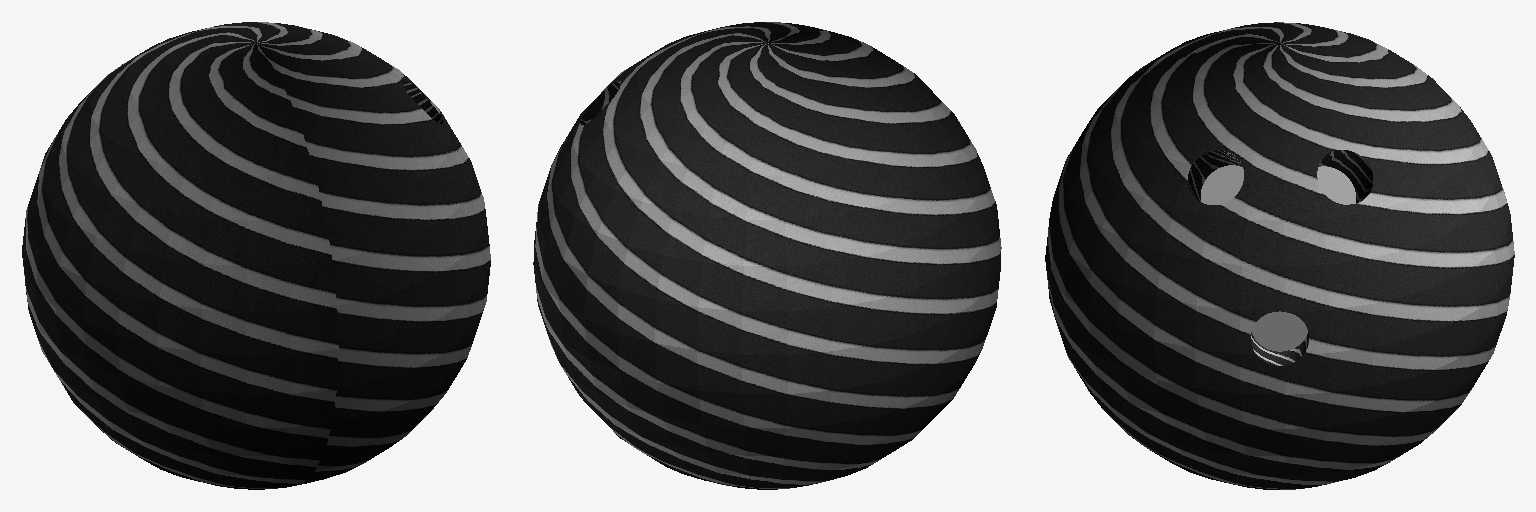
3 renders of one model, left to right at view 1: azimuth 30°, elevation 25°; view 2: azimuth 150°, elevation 25°; view 3: azimuth 270°, elevation 25°, orthographic.
Parts seen in each view (by area): view 1: Sphere; view 2: Sphere; view 3: Sphere.
Boxes of the visible parts, x1,y1,x2,y2 form: Sphere: [22, 22, 490, 489]; Sphere: [533, 22, 1001, 489]; Sphere: [1045, 22, 1514, 489].
Bounding box in the file's own units: 1.99 × 2 × 2.
2 materials, 1 textured.